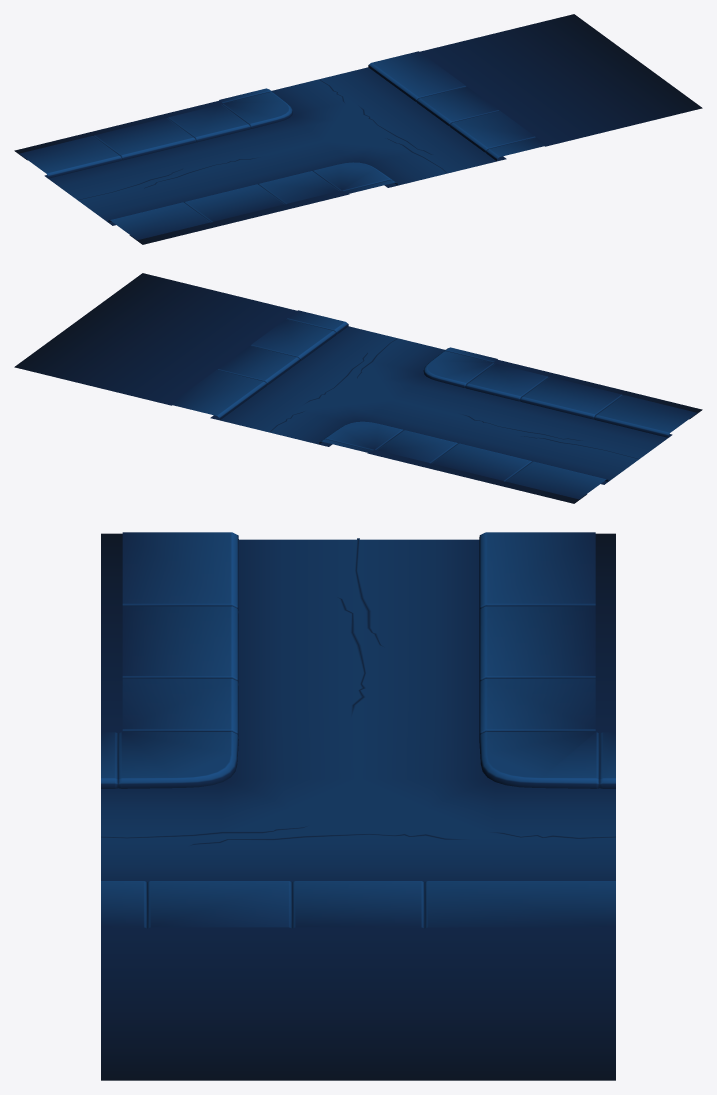
File: Road03Night.fbx
The picture shows the model from 3 angles, top to bottom: view 1: azimuth 30°, elevation 25°; view 2: azimuth 150°, elevation 25°; view 3: azimuth 270°, elevation 25°; orthographic projection. The views are drawn at different scales.
Visible parts, largest first — view 1: Road03Night; view 2: Road03Night; view 3: Road03Night.
Part boxes in pixels (x1,y1,x2,y2): Road03Night: (14,14,702,244); Road03Night: (14,273,702,503); Road03Night: (101,532,615,1080).
Bounding box in the file's own units: 2262 × 14.58 × 900.
